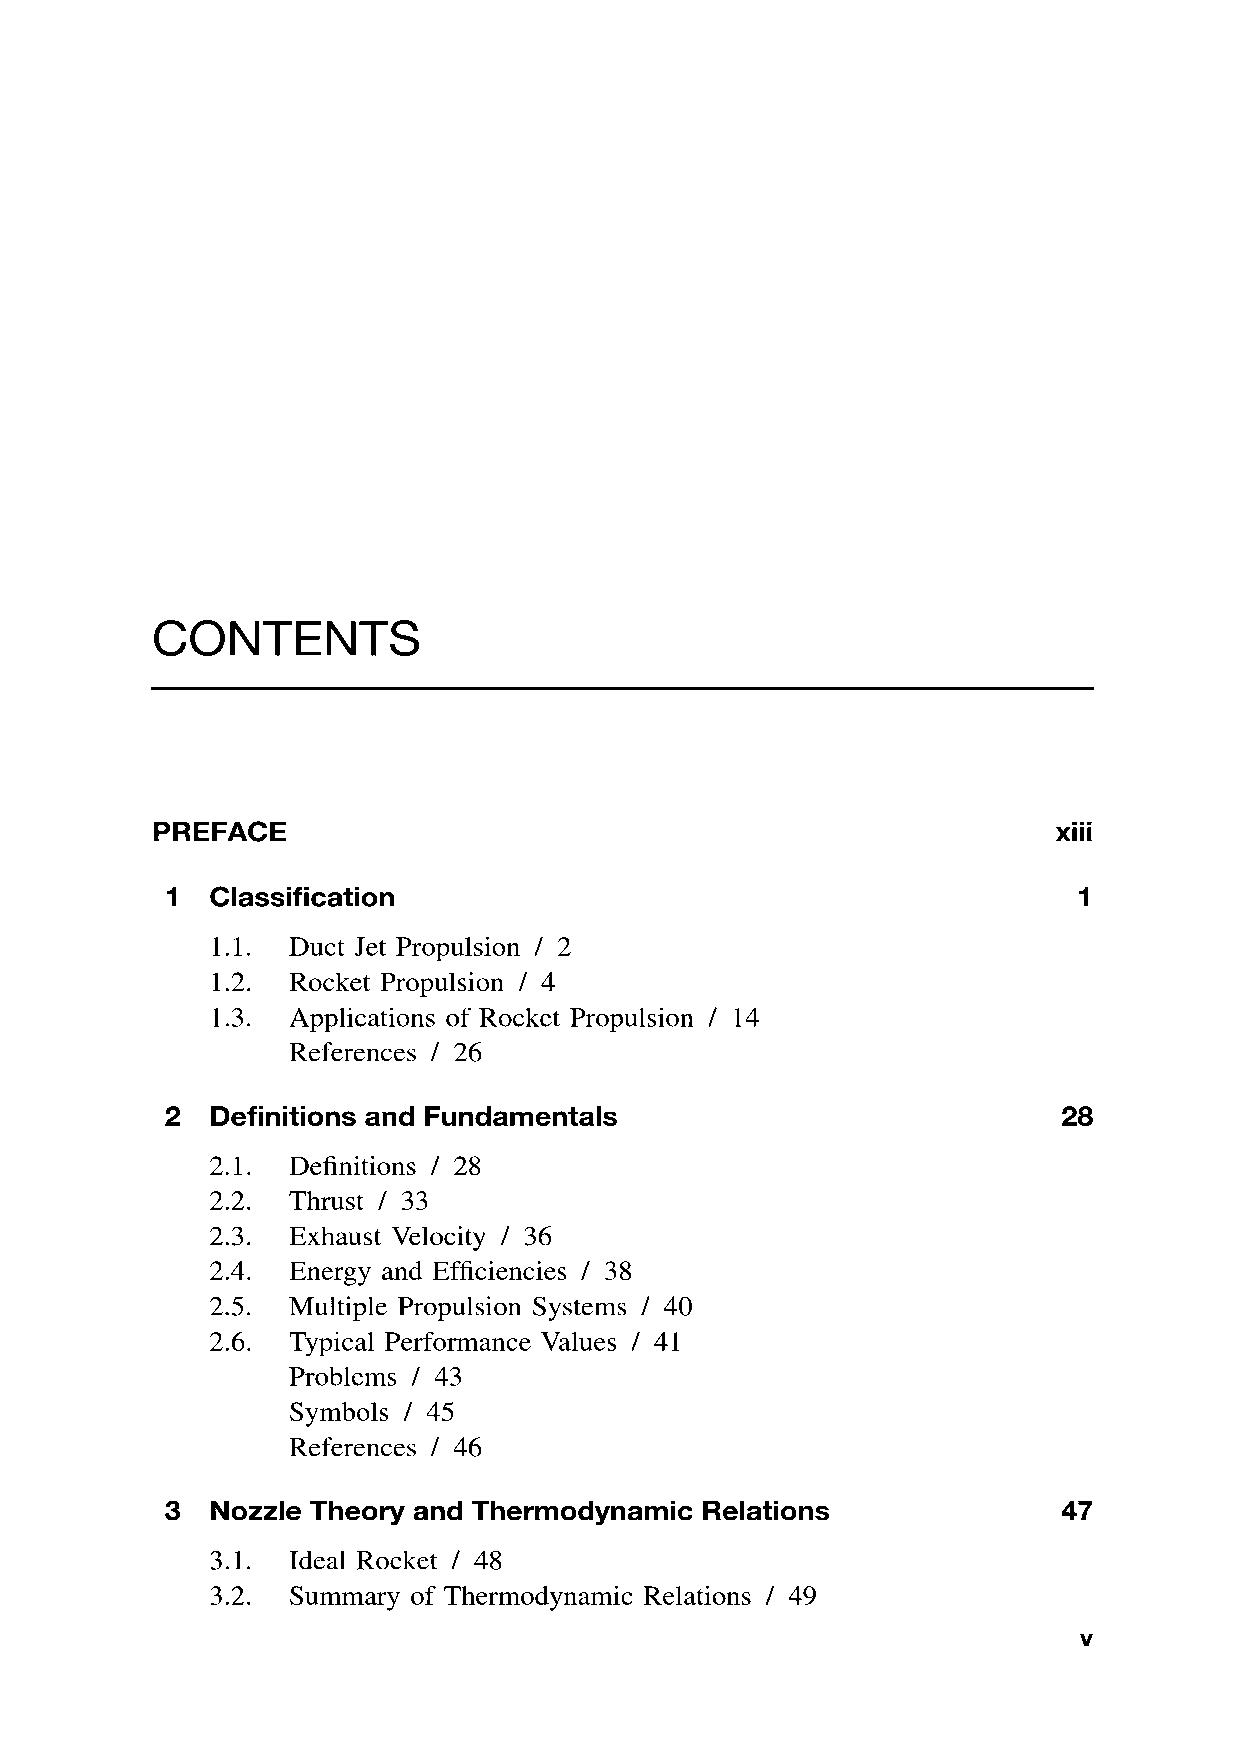TOC_chapter: (160, 1496, 833, 1525), (205, 1578, 753, 1612), (161, 1100, 619, 1133), (209, 1005, 696, 1033), (208, 1292, 628, 1322), (203, 1327, 616, 1355), (208, 1256, 568, 1286), (208, 968, 505, 998), (209, 931, 522, 960), (207, 1224, 486, 1251), (162, 883, 400, 910), (205, 1547, 437, 1573), (207, 1151, 417, 1177), (152, 817, 293, 848), (207, 1188, 366, 1210), (287, 1040, 416, 1068), (289, 1398, 392, 1428), (286, 1363, 399, 1390), (289, 1435, 417, 1457)
TOC_pagenumber: (1051, 816, 1096, 845), (729, 1002, 772, 1029), (1055, 1100, 1095, 1129), (1059, 1492, 1094, 1523), (450, 1432, 486, 1460), (786, 1580, 821, 1608), (650, 1326, 682, 1355), (521, 1220, 556, 1245), (472, 1547, 507, 1573), (662, 1292, 695, 1318), (451, 1037, 484, 1062), (431, 1365, 464, 1388), (454, 1154, 484, 1178), (603, 1257, 633, 1282), (397, 1190, 429, 1212), (425, 1398, 455, 1421), (552, 931, 577, 957), (1076, 880, 1091, 910), (539, 969, 557, 990)
chapter: (148, 617, 425, 659)
